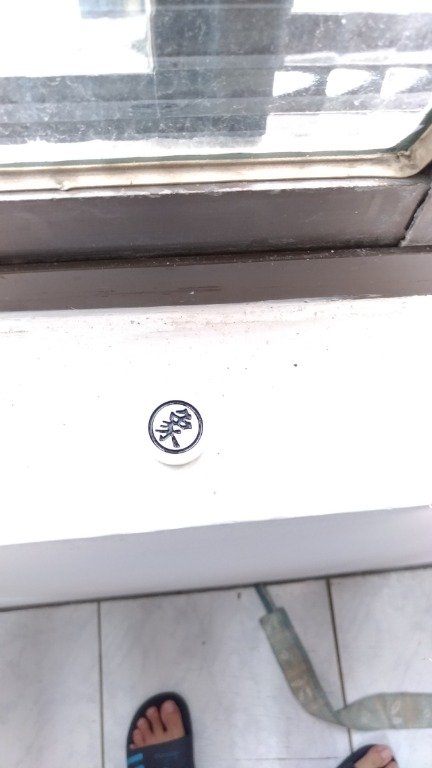b-elephant: (131, 386, 235, 486)
